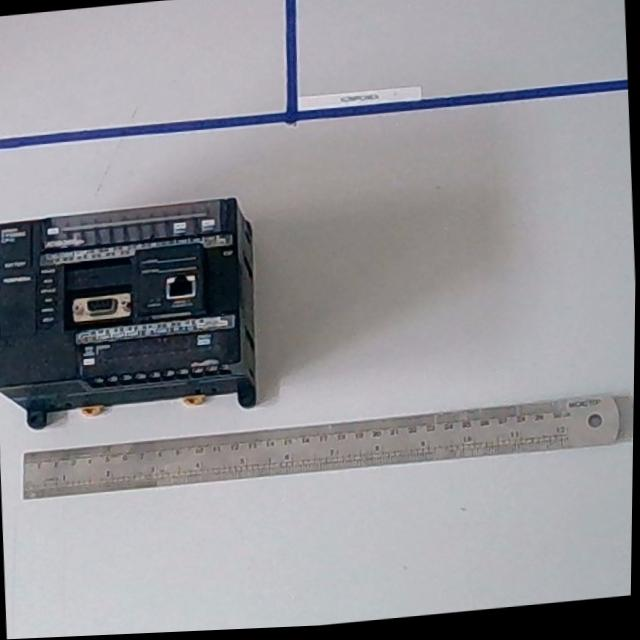plc: (0, 193, 268, 438)
ruler: (19, 391, 631, 510)
